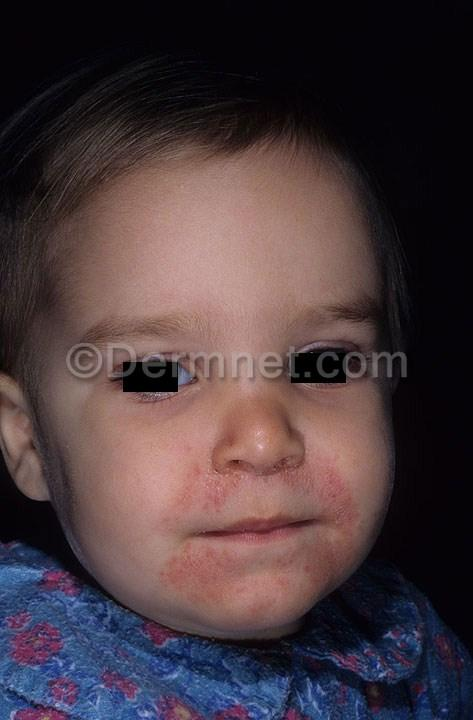eritema 1: (160, 450, 366, 597)
xerosis 1: (190, 468, 359, 528)
